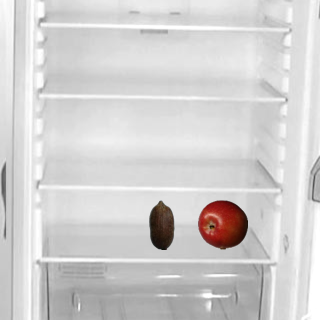Apple Braeburn: (197, 199, 247, 249)
Nut Pecan: (136, 199, 186, 249)
